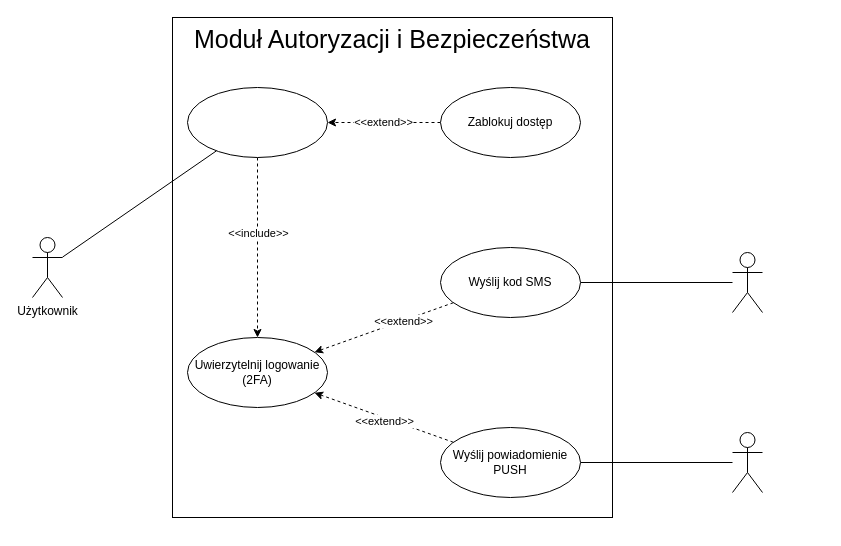
This 841x546 diagram has some shape labels left out. The shapes that lost their labels are listed below. From the top down, each one's centre as x and y in pixels, then its label:
At [257,122]: "Zaloguj się do systemu".
At [747,282]: "<<system>> Bramka SMS".
At [747,462]: "<<system>> System Powiadomień PUSH".
